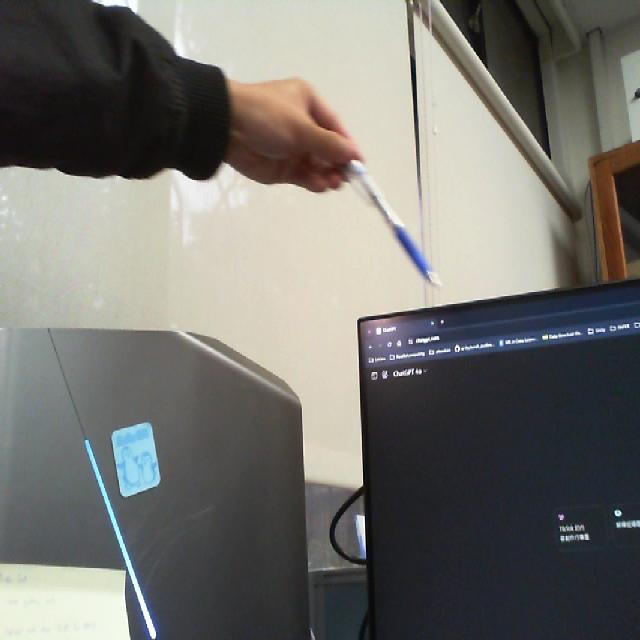Pen: (309, 117, 456, 302)
